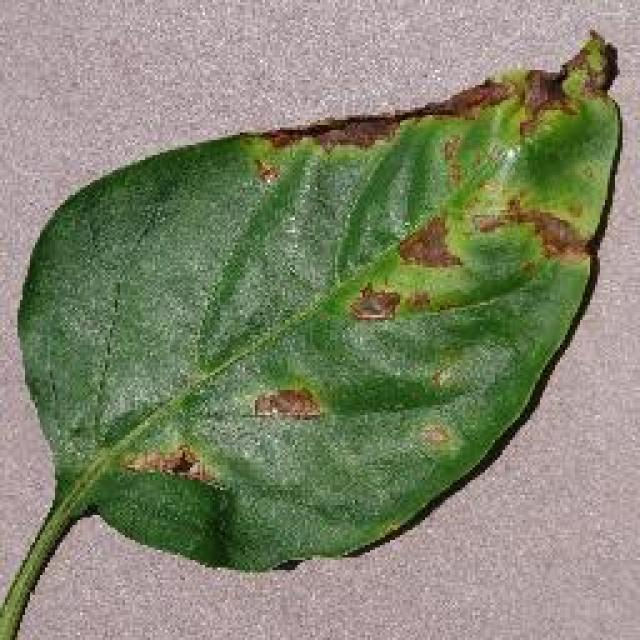Chilli_Bacterial_Spot: (10, 27, 625, 575), (343, 193, 595, 325), (470, 195, 595, 267), (552, 25, 620, 103), (117, 440, 215, 485), (392, 210, 462, 272), (527, 210, 595, 268), (247, 383, 325, 425), (345, 280, 403, 325), (412, 418, 458, 458), (248, 155, 282, 187)
